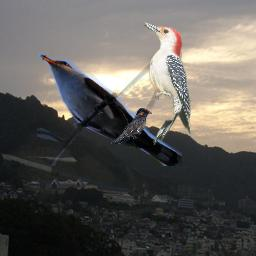Cuckoo: (37, 52, 182, 166)
Swallow: (111, 108, 152, 144)
Woodpecker: (141, 21, 191, 145)
